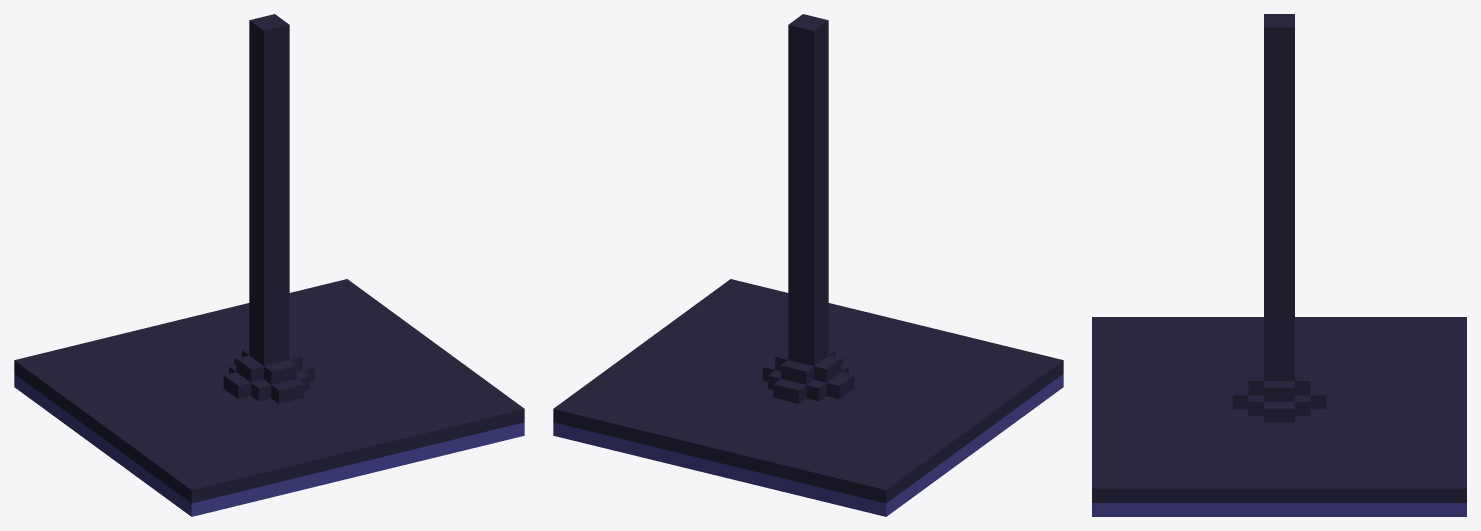
File: pressehautvox.obj
The picture shows the model from 3 angles, left to right: view 1: azimuth 30°, elevation 25°; view 2: azimuth 150°, elevation 25°; view 3: azimuth 270°, elevation 25°; orthographic projection. The views are drawn at different scales.
Size of the model in its own units: 2.6 by 2.9 by 2.4.
Materials: 1 (1 with a texture image).
